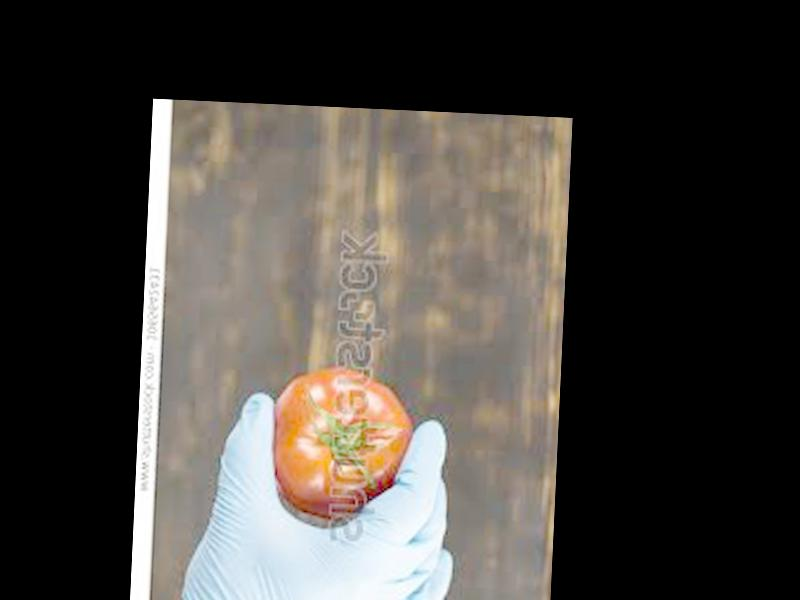Tomato: (267, 362, 415, 524)
